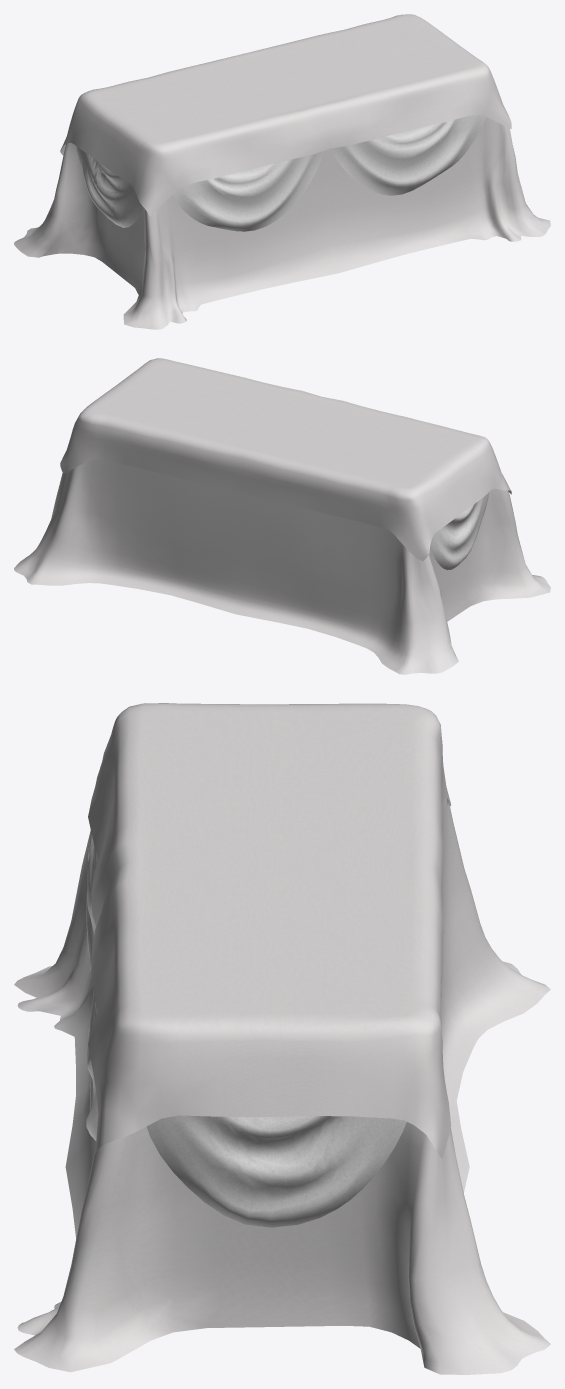
The model's file is EventTable01Cloth03_2.FBX.
3 renders of one model, top to bottom at view 1: azimuth 30°, elevation 25°; view 2: azimuth 150°, elevation 25°; view 3: azimuth 270°, elevation 25°, orthographic. The views are drawn at different scales.
Visible parts, largest first — view 1: EventTable01Cloth03_2; view 2: EventTable01Cloth03_2; view 3: EventTable01Cloth03_2.
Boxes of the visible parts, bbox=[...] form: EventTable01Cloth03_2: bbox=[14, 14, 550, 329]; EventTable01Cloth03_2: bbox=[14, 358, 550, 674]; EventTable01Cloth03_2: bbox=[14, 703, 550, 1374].
Size of what is drawn, in the model's own units: 2.63 by 0.9039 by 1.44.
